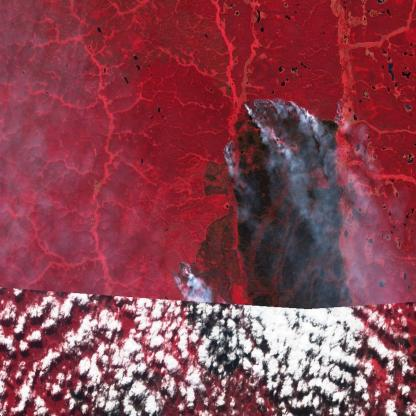fire: (168, 93, 364, 327)
